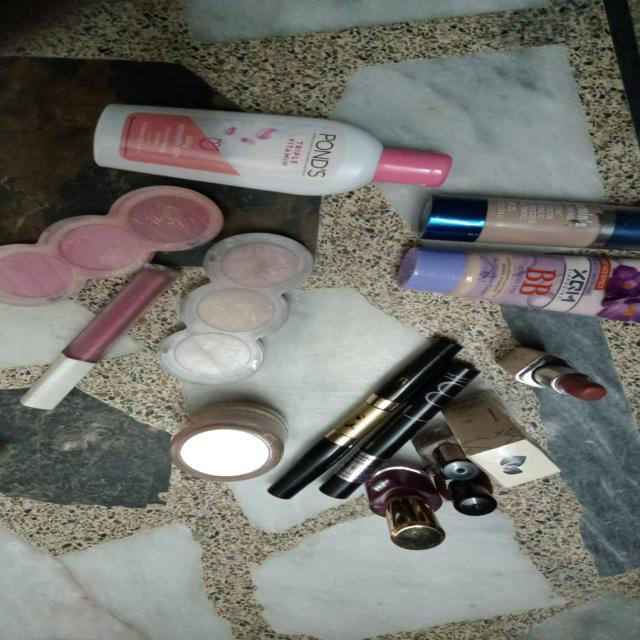bb cream: (394, 239, 640, 323)
blush: (123, 191, 221, 245), (56, 223, 148, 274), (0, 248, 70, 300)
eye liner: (296, 326, 490, 458)
foundation: (407, 184, 640, 252)
lip gloss: (11, 262, 183, 424)
lip stick: (496, 341, 612, 413)
lotion: (81, 96, 457, 196)
